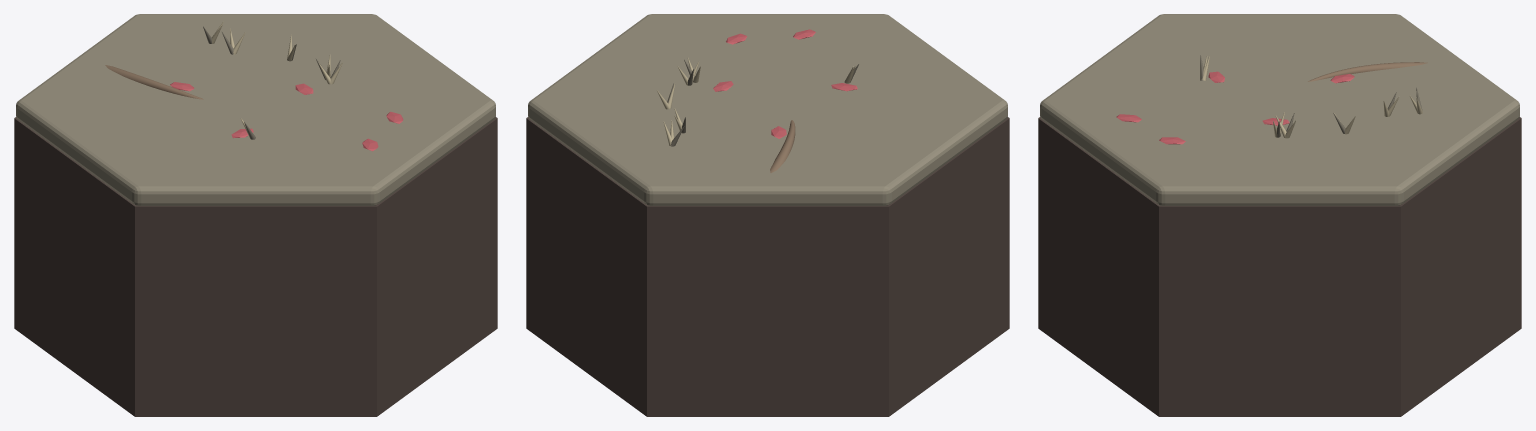
The model's file is hex_crown.glb.
3 views of the same model, side by side, from view 1: azimuth 30°, elevation 25°; view 2: azimuth 150°, elevation 25°; view 3: azimuth 270°, elevation 25° (orthographic).
Visible parts, largest first — view 1: hex_crown; view 2: hex_crown; view 3: hex_crown.
Part boxes in pixels (x1=…): hex_crown: x1=14, y1=14, x2=497, y2=416; hex_crown: x1=526, y1=14, x2=1009, y2=416; hex_crown: x1=1038, y1=14, x2=1521, y2=416.
Size of the model in its own units: 1.7 by 1.11 by 1.96.
